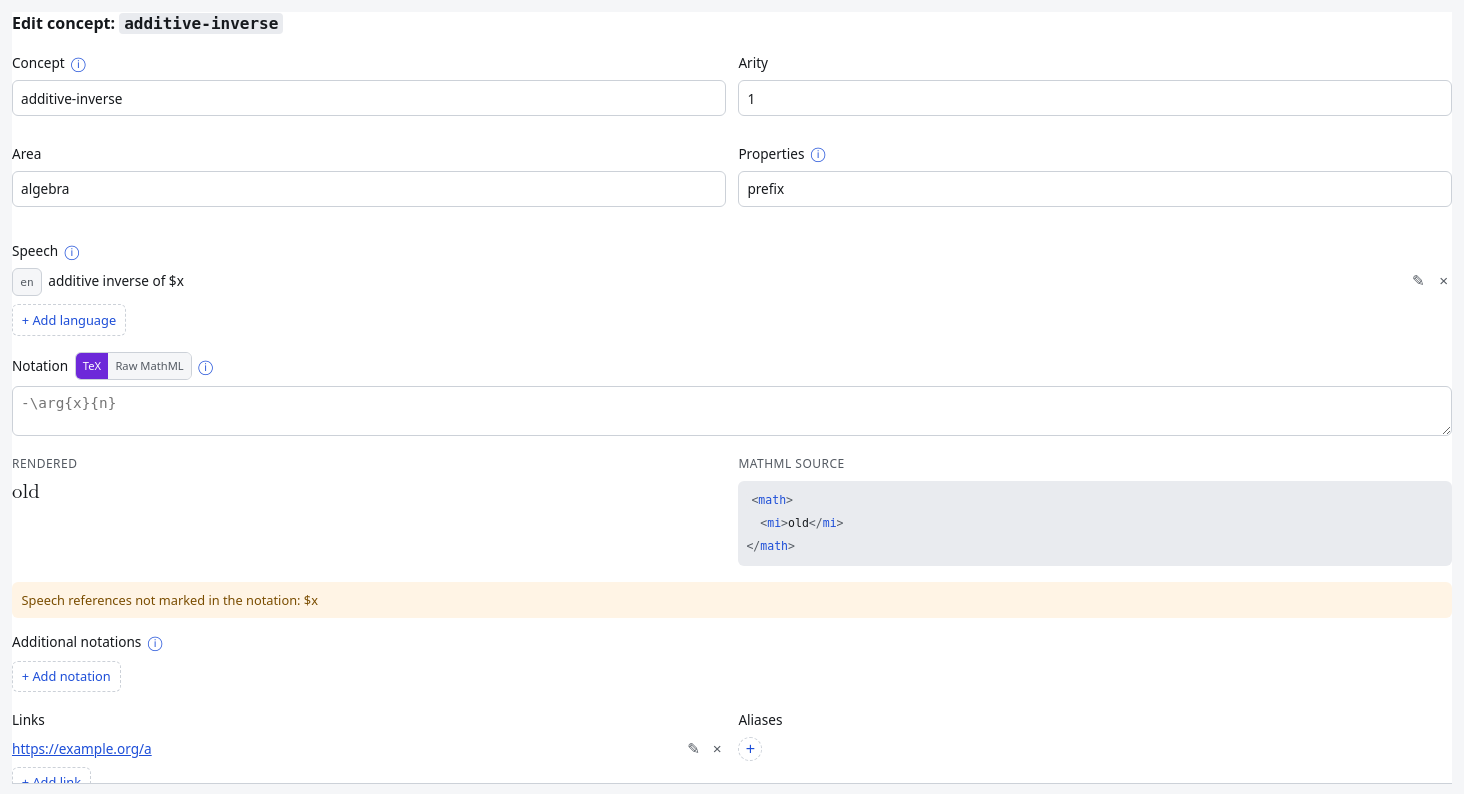
NotationEditor › gives each extra notation its own TeX / Raw MathML toggle
Step 1. Click the button "+ Add notation" → (66, 676), box x1=12 y1=661 x2=120 y2=692
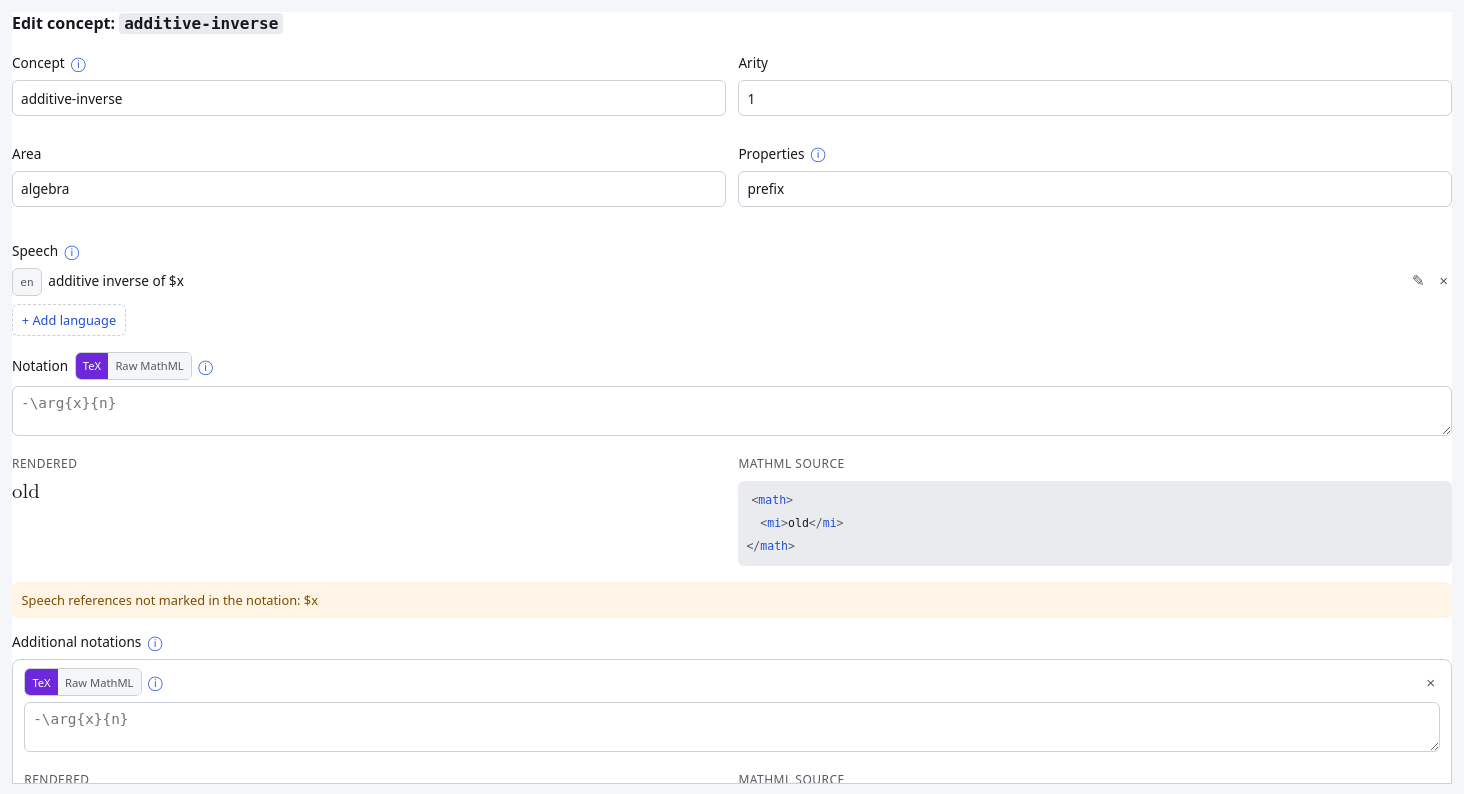
Step 2. Click the tab "Raw MathML" below "Additional notations" → (99, 682), box x1=58 y1=669 x2=141 y2=696
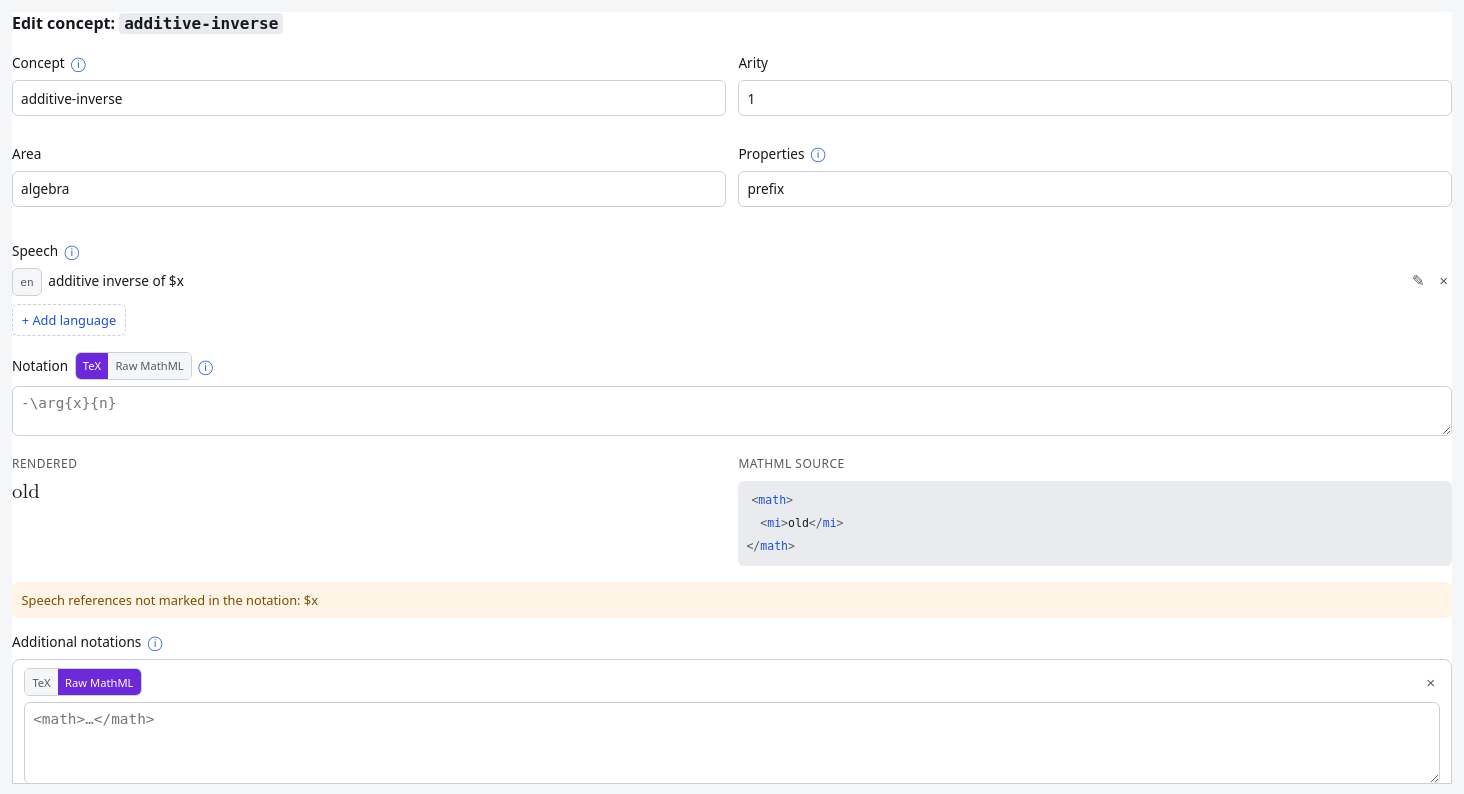
Expected: the text box with test id "tex-input" is shown, x1=12 y1=386 x2=1452 y2=436
Result: the text box with test id "extra-notation-mathml" is shown at x1=24 y1=702 x2=1440 y2=784
